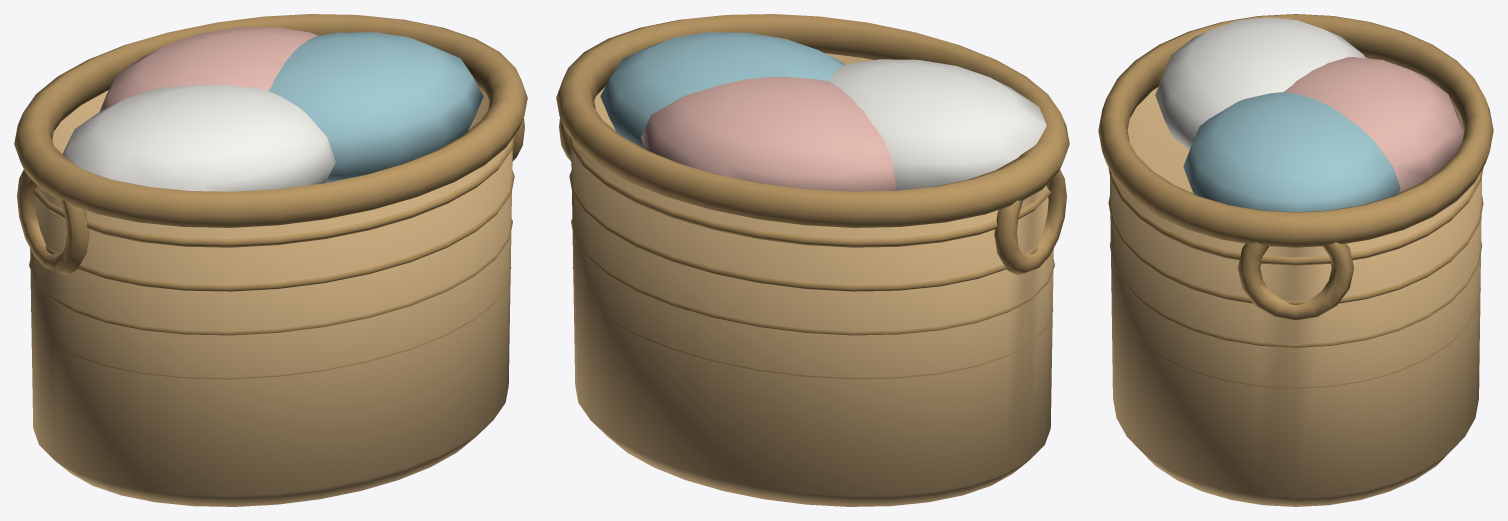
The model's file is laundryBasket.glb.
The picture shows the model from 3 angles, left to right: view 1: azimuth 30°, elevation 25°; view 2: azimuth 150°, elevation 25°; view 3: azimuth 270°, elevation 25°; orthographic projection. The views are drawn at different scales.
Visible parts, largest first — view 1: laundryBasket; view 2: laundryBasket; view 3: laundryBasket.
Part boxes in pixels (x1=…): laundryBasket: x1=14, y1=14, x2=527, y2=506; laundryBasket: x1=556, y1=14, x2=1069, y2=506; laundryBasket: x1=1098, y1=14, x2=1493, y2=506.
Size of the model in its own units: 0.54 by 0.39 by 0.4212.
